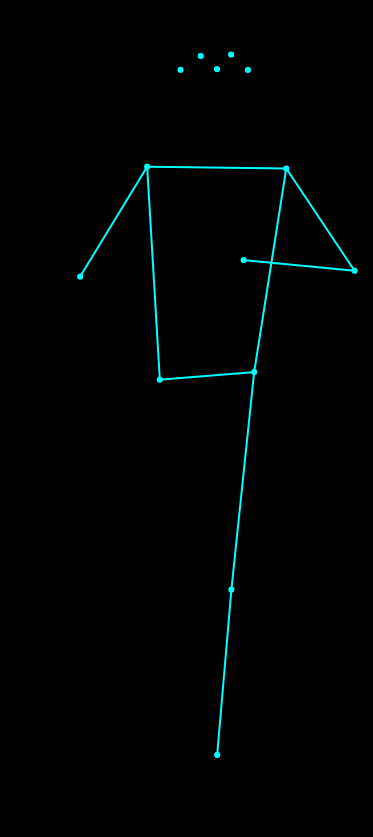tree: (66, 28, 363, 770)
